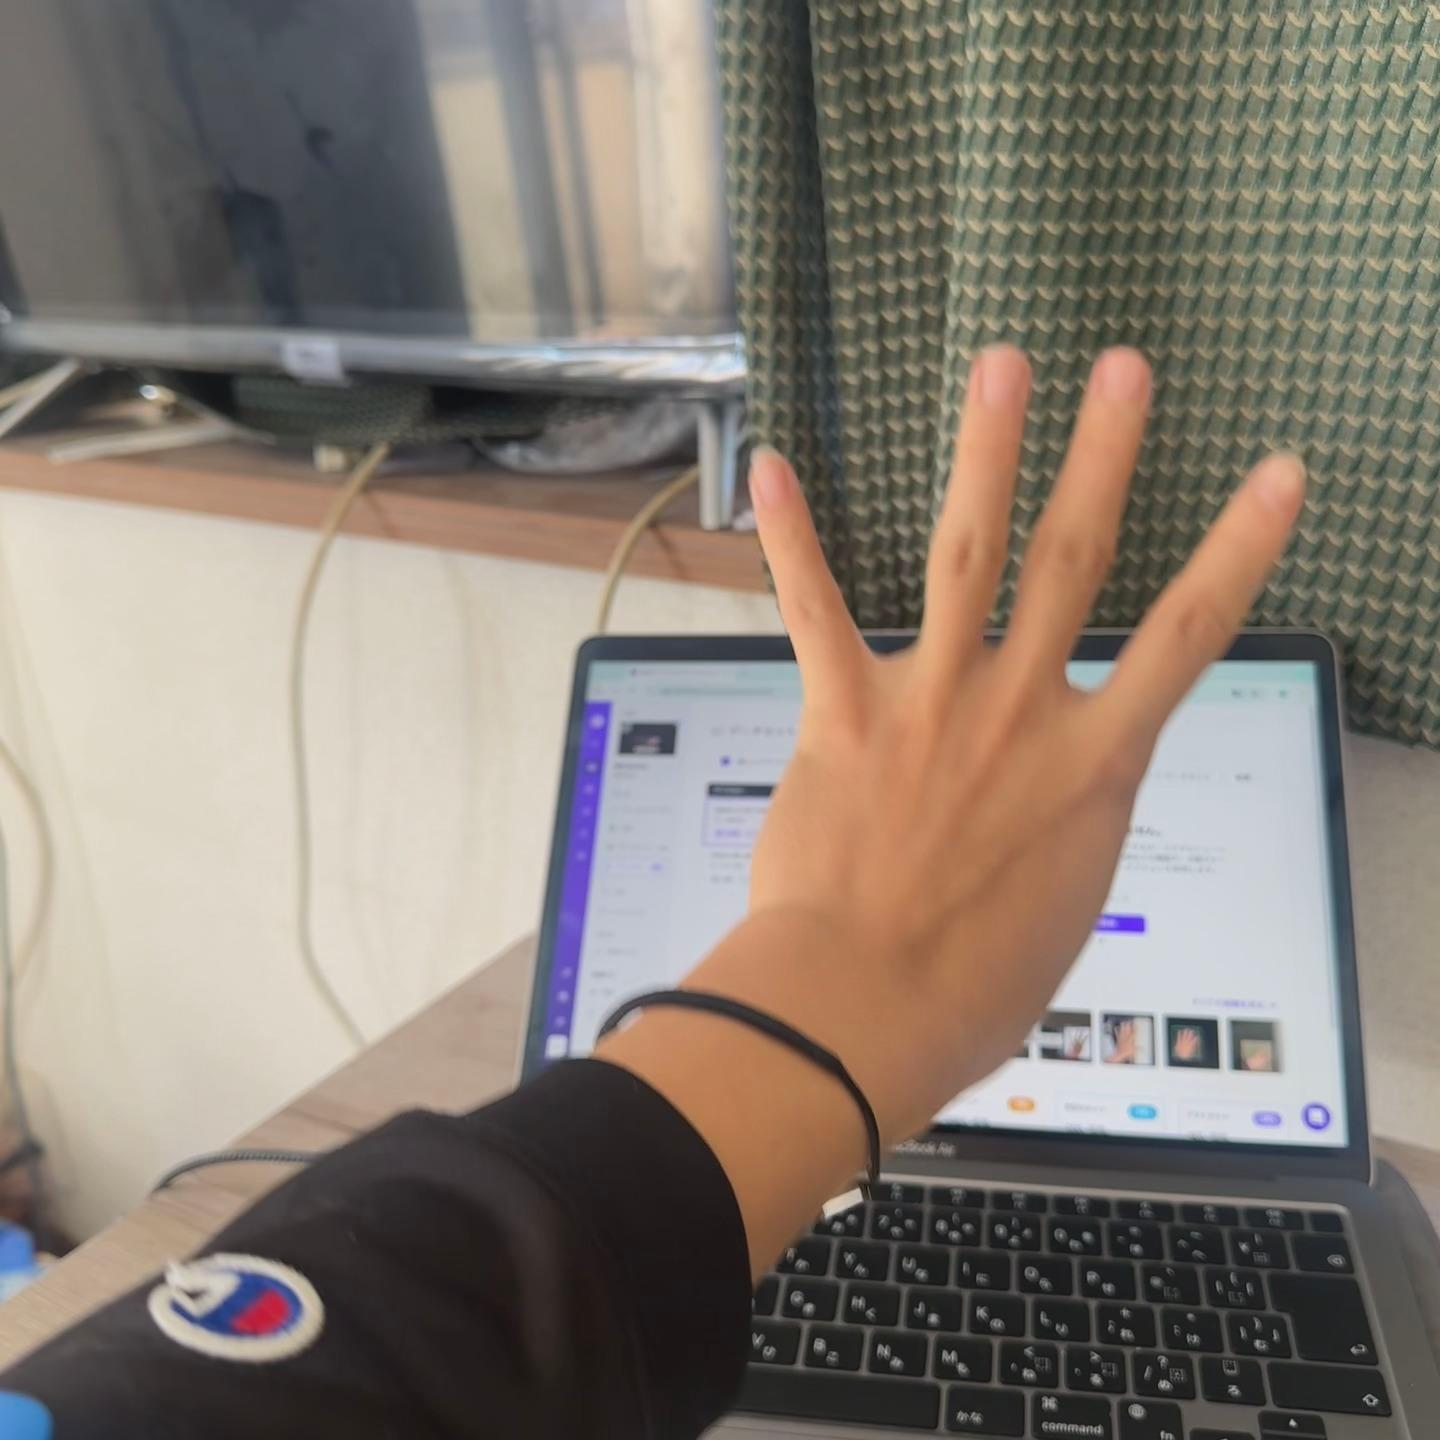without_gloves: (711, 294, 1356, 1230)
